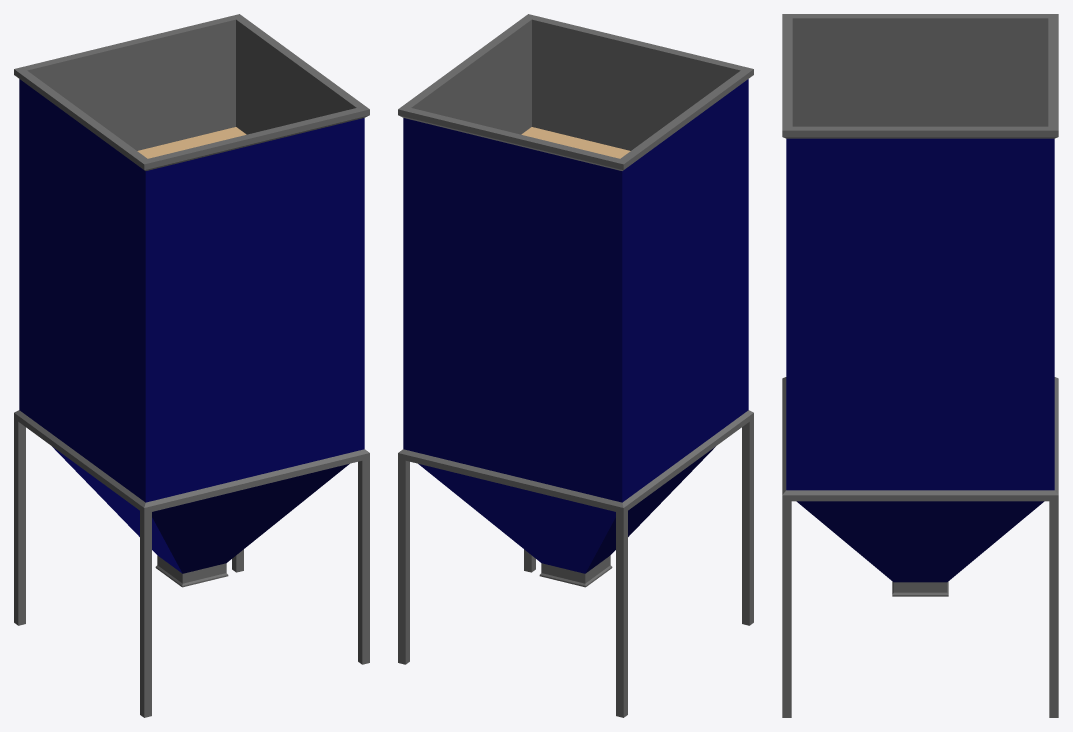
File: Prop_Industrial_Vat_Tank_Square_02.FBX
The picture shows the model from 3 angles, left to right: view 1: azimuth 30°, elevation 25°; view 2: azimuth 150°, elevation 25°; view 3: azimuth 270°, elevation 25°; orthographic projection. The views are drawn at different scales.
Parts seen in each view (by area): view 1: Prop_Industrial_Vat_Tank_Square_02; view 2: Prop_Industrial_Vat_Tank_Square_02; view 3: Prop_Industrial_Vat_Tank_Square_02.
Part boxes in pixels (bbox=[...]): Prop_Industrial_Vat_Tank_Square_02: bbox=[14, 14, 369, 717]; Prop_Industrial_Vat_Tank_Square_02: bbox=[398, 14, 753, 717]; Prop_Industrial_Vat_Tank_Square_02: bbox=[782, 14, 1058, 717].
Bounding box in the file's own units: 2075 × 4863 × 2075.
